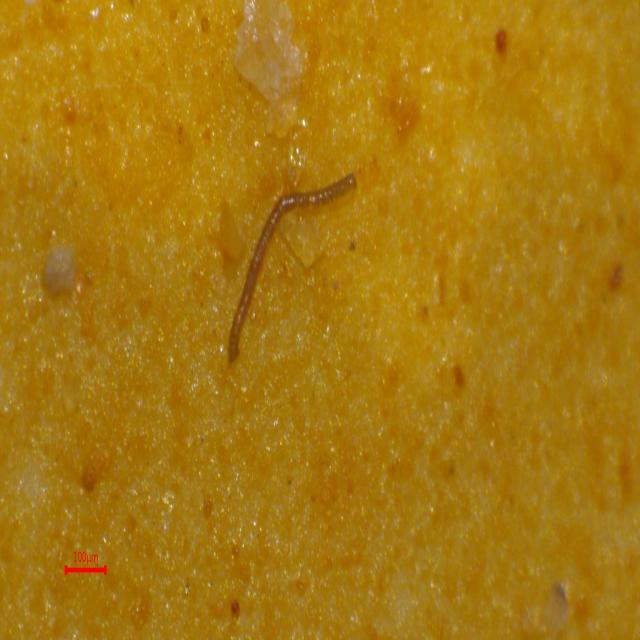fibers: (186, 146, 361, 362)
